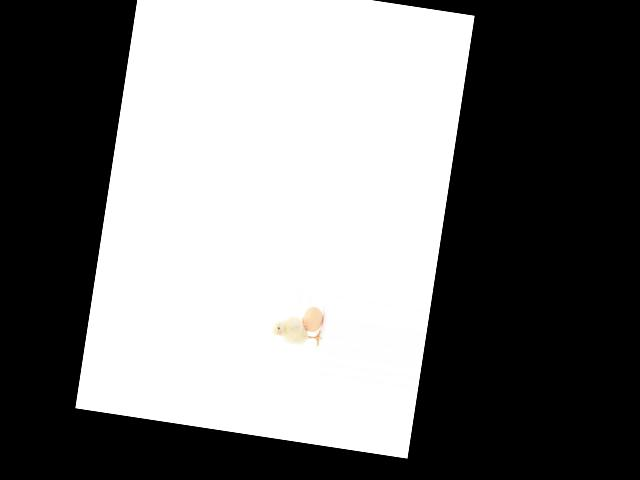egg: (301, 305, 324, 334)
